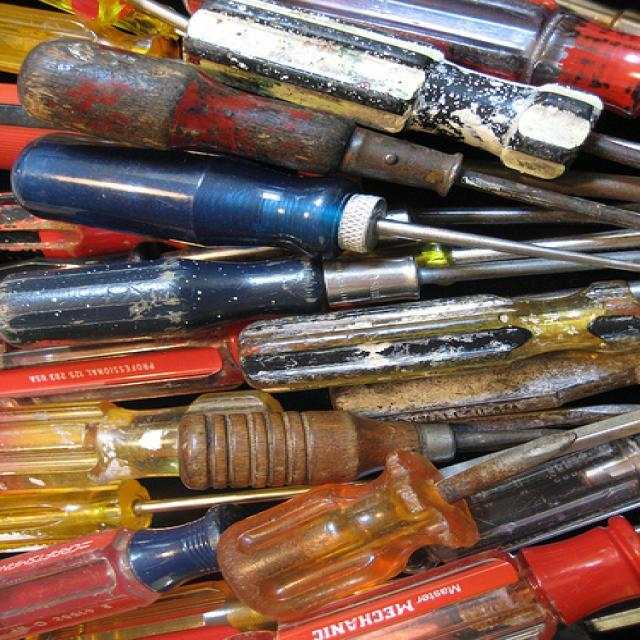screwdriver: (56, 36, 640, 230), (0, 132, 640, 299), (208, 434, 588, 590)
